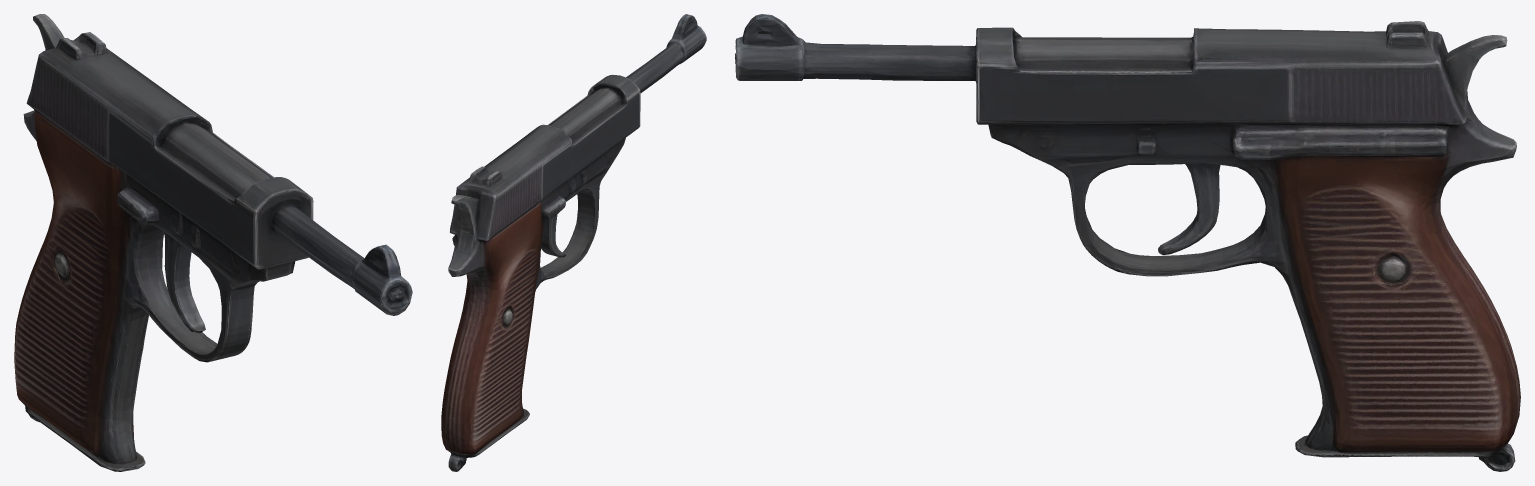
The picture shows the model from 3 angles, left to right: view 1: azimuth 30°, elevation 25°; view 2: azimuth 150°, elevation 25°; view 3: azimuth 270°, elevation 25°; orthographic projection. The views are drawn at different scales.
Visible parts, largest first — view 1: geometry_0; view 2: geometry_0; view 3: geometry_0.
Part boxes in pixels (x1,y1,x2,y2): geometry_0: (14, 14, 412, 471); geometry_0: (441, 14, 706, 471); geometry_0: (735, 14, 1520, 471).
Size of the model in its own units: 0.0976 by 0.6375 by 0.9966.
Materials: 1 (1 with a texture image).
